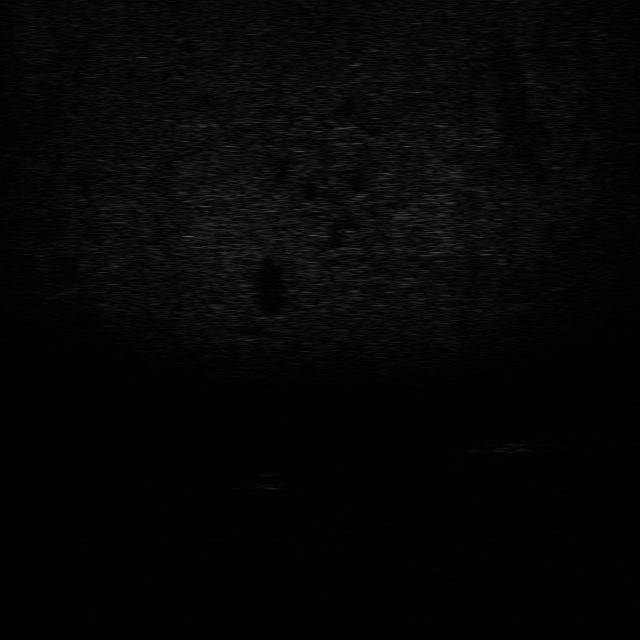ball: (248, 469, 292, 494)
human body: (451, 429, 560, 460)
